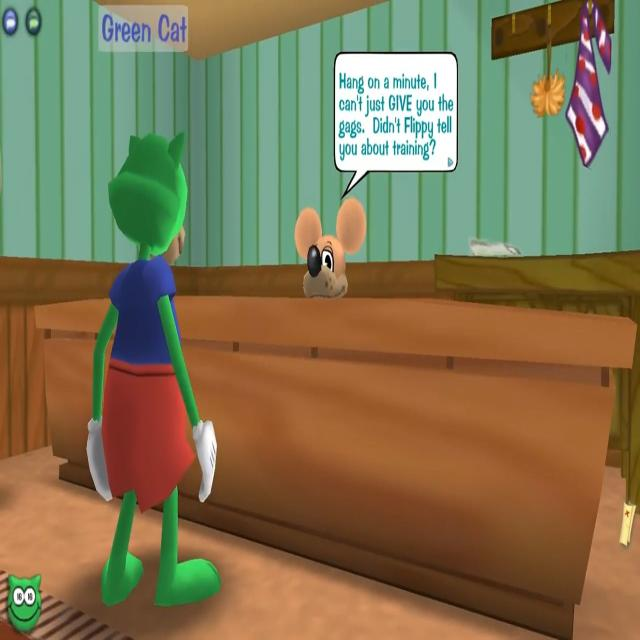npc: (294, 199, 365, 301)
